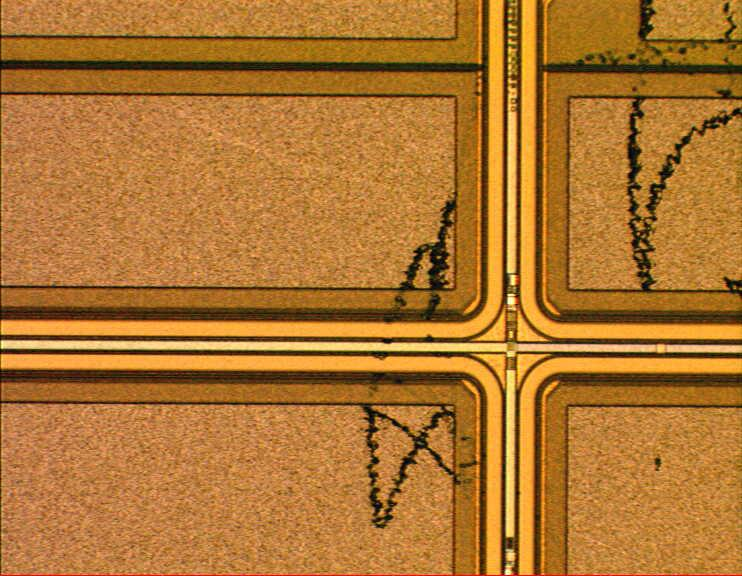SCRATCH: (356, 1, 742, 537)
